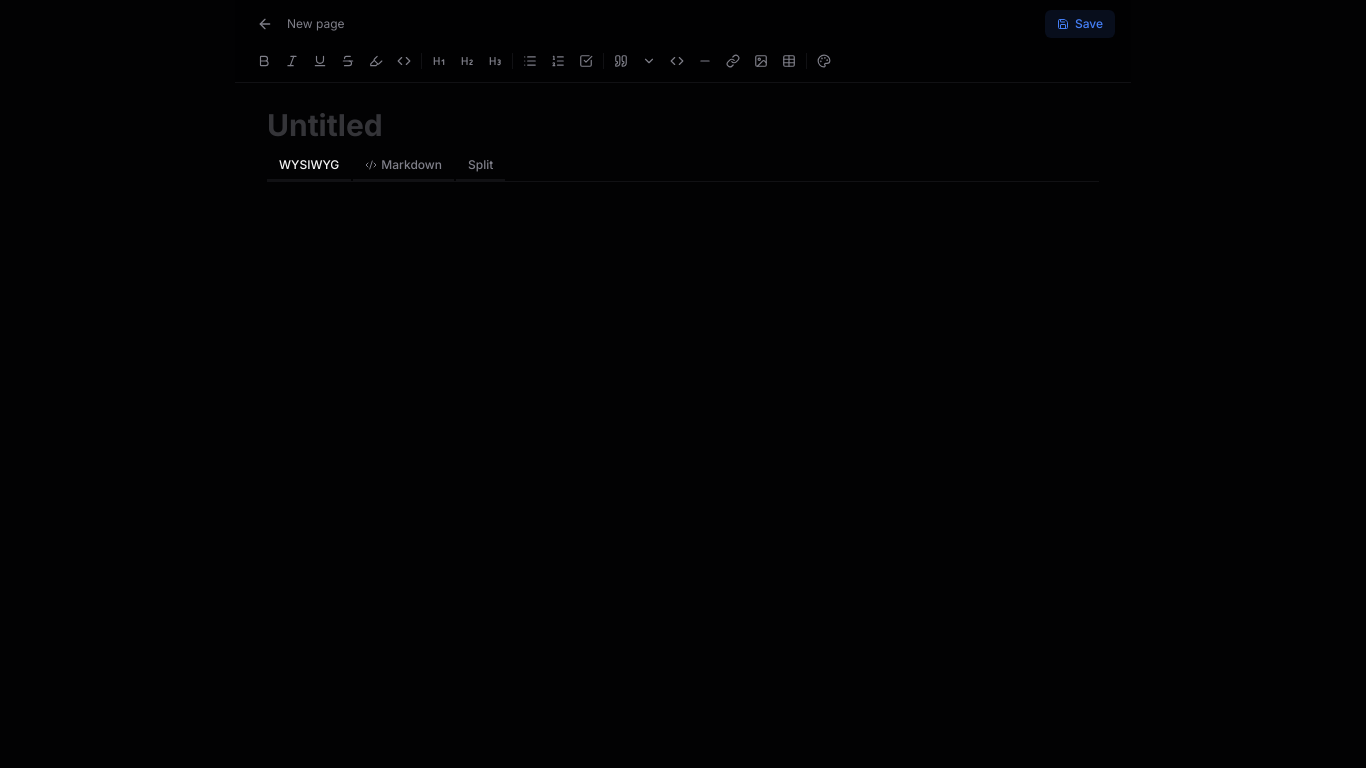
Test case: PageEditor › new page mode › shows an error banner if save fails
Type "My Page" into the field with placeholder "Untitled".
click(683, 125); type("My Page")  # box [267,107,1099,143]
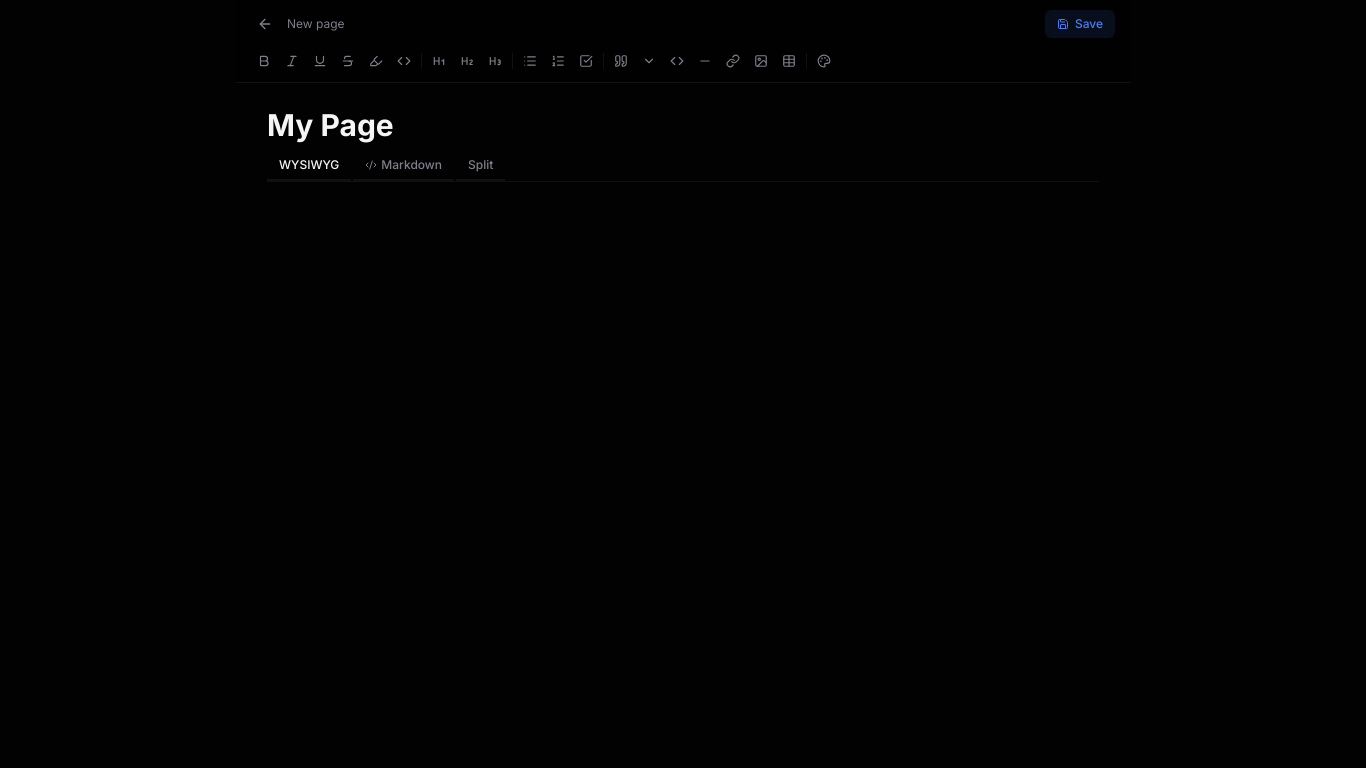
Click the button "Save".
click(1080, 24)  # box [1045,10,1115,38]
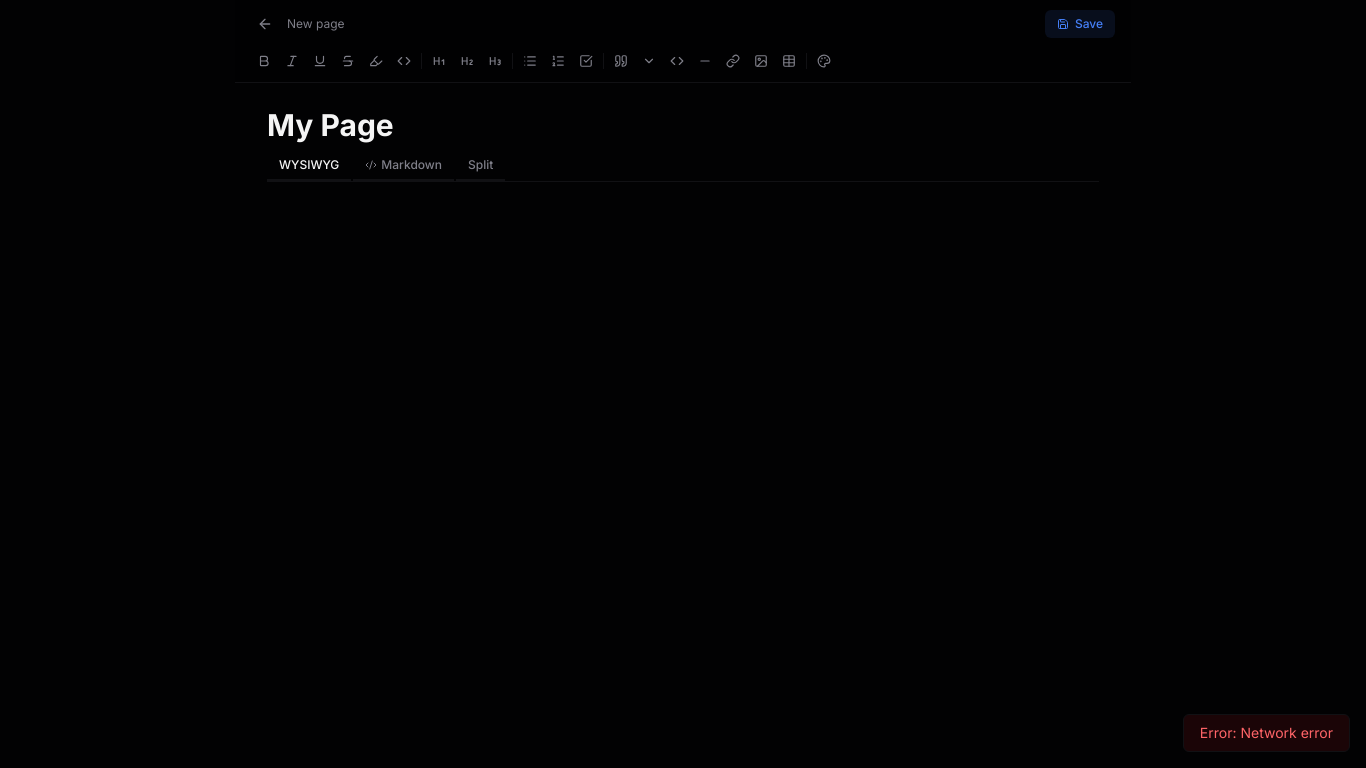
Now the text "Error: Network error" is shown, box [1183,714,1350,752]
